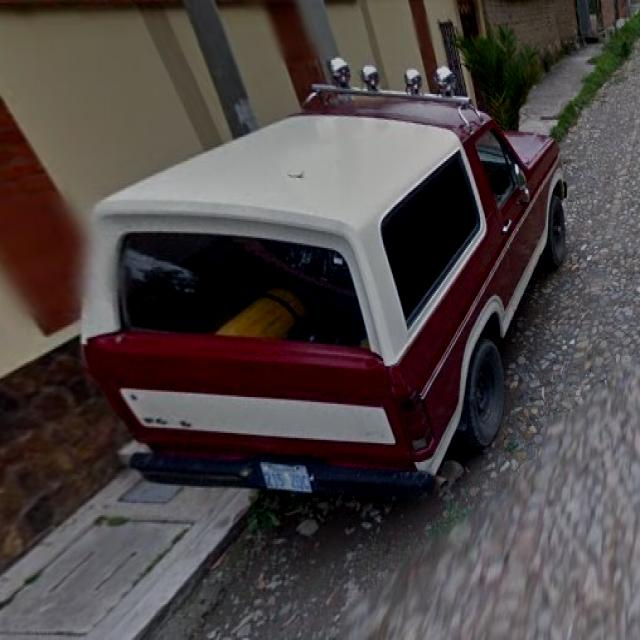car: (87, 75, 559, 505)
